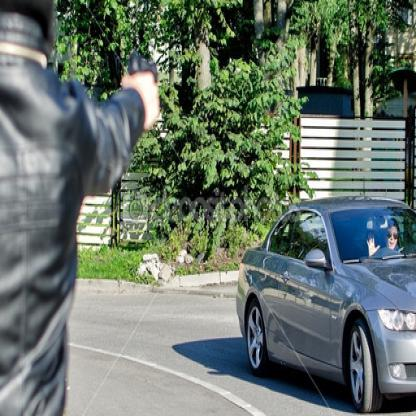gun: (113, 36, 168, 140)
